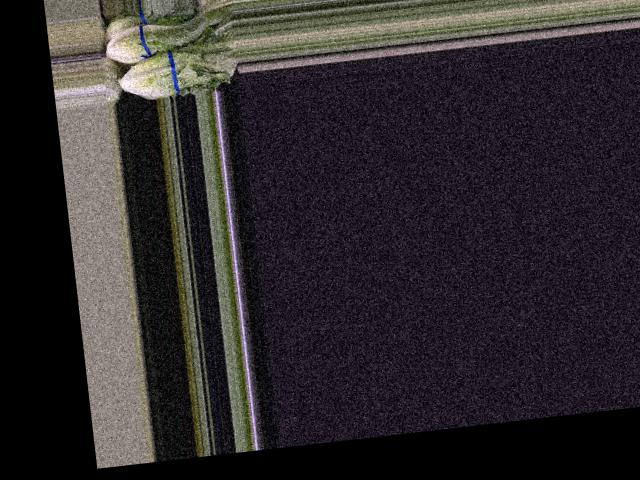lettuce: (101, 9, 213, 66)
